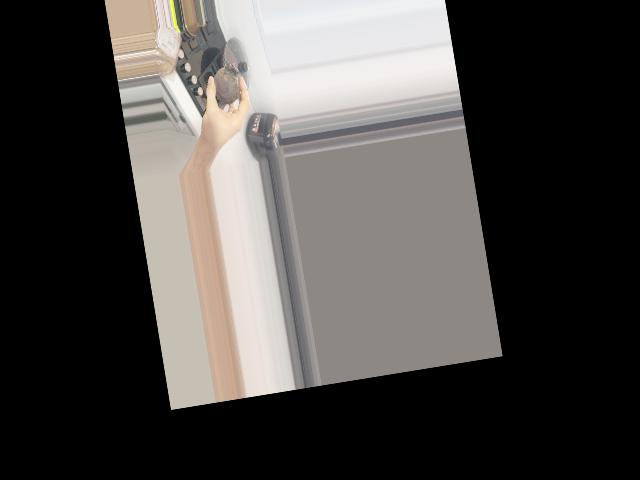beet: (211, 61, 243, 108)
